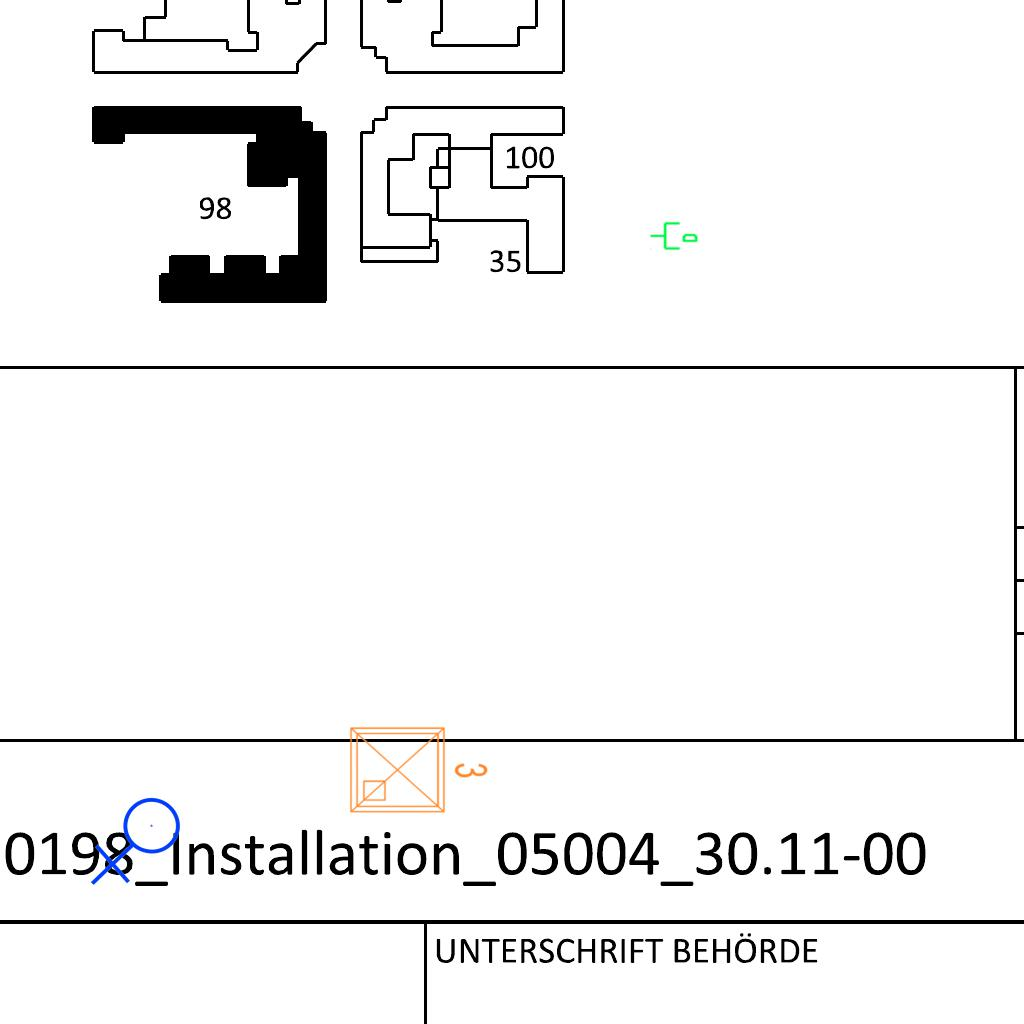Datenanschluss_einfach: (649, 218, 699, 252)
Einbaudownlights_LED_Konferenzraeume: (343, 716, 493, 820)
Elektroanschluss_allgemein_230V_Geraeteanschlussdose_230V: (90, 796, 189, 890)
